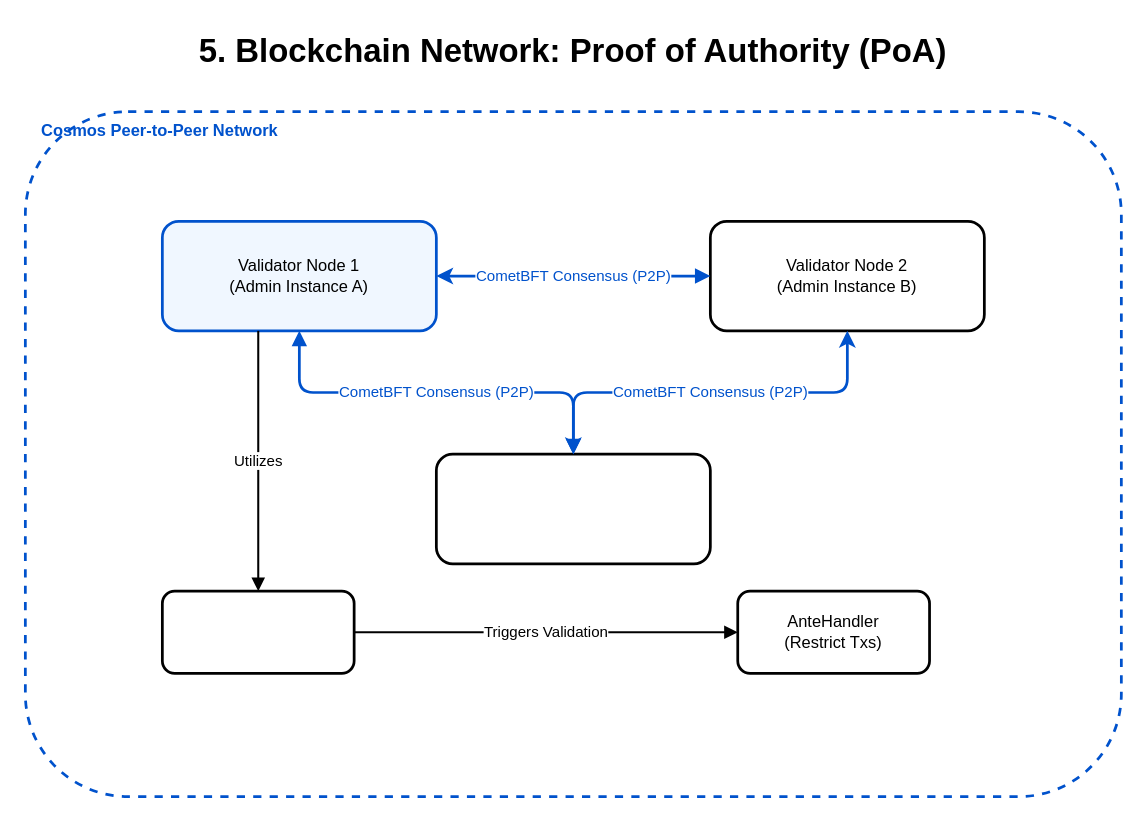
Some shapes in this 1145 by 821 pixel diagram are drawn without their labels. Here are the shapes that lost their labels. From the top down, the centre of each, then its label:
the point at 572,508: Validator Node 3 (Admin Instance C)
the point at 257,631: x/poa Module
